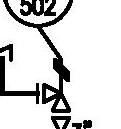psv: (42, 57, 71, 113)
